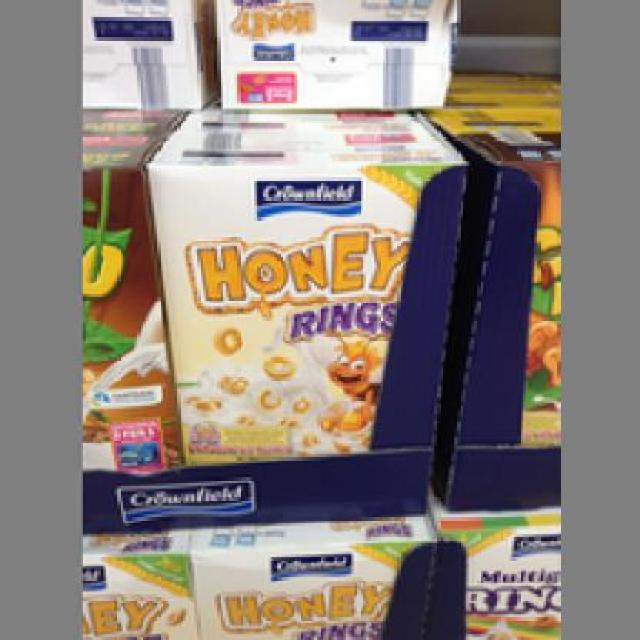Cereal: (140, 130, 460, 463)
